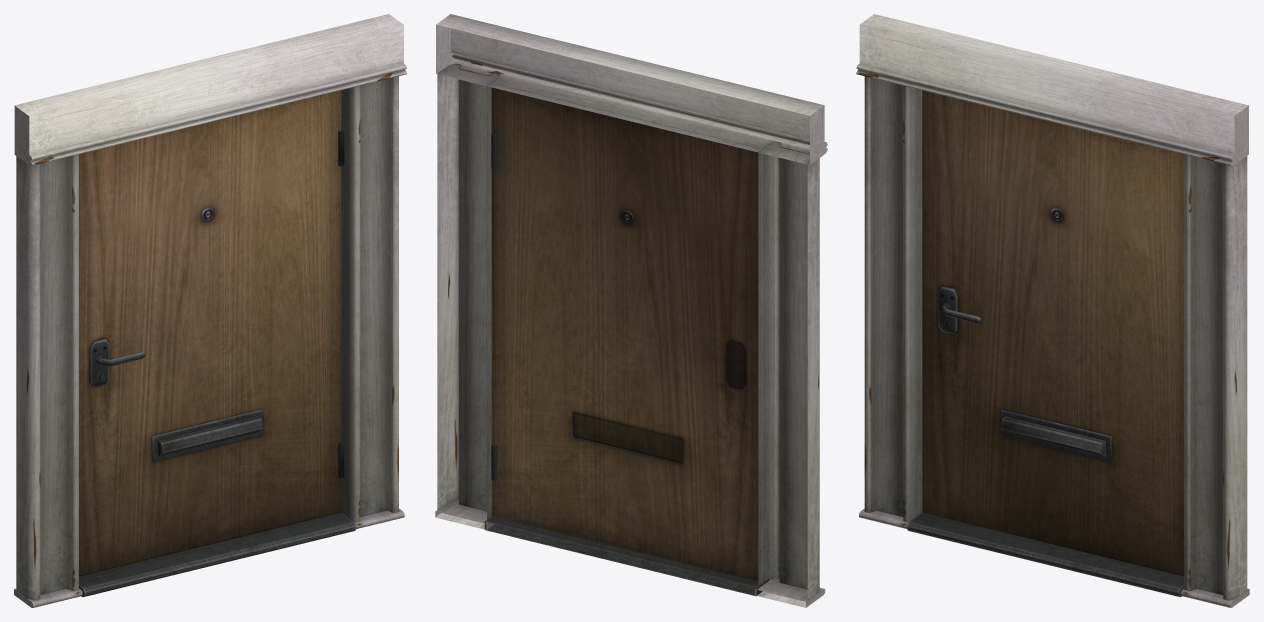
The model's file is exit_apartment.dae.
3 views of the same model, side by side, from view 1: azimuth 30°, elevation 25°; view 2: azimuth 150°, elevation 25°; view 3: azimuth 330°, elevation 25° (orthographic).
Visible parts, largest first — view 1: exit_apartment; view 2: exit_apartment; view 3: exit_apartment.
Part boxes in pixels (x1,y1,x2,y2): exit_apartment: [14, 14, 406, 607]; exit_apartment: [435, 14, 827, 607]; exit_apartment: [856, 14, 1249, 607].
Bounding box in the file's own units: 2.39 × 3 × 0.2278.
